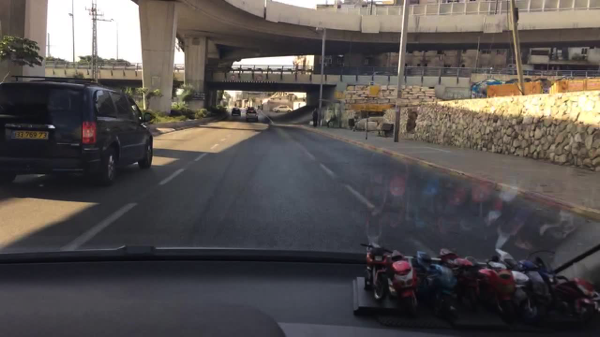car: (1, 75, 156, 186), (245, 110, 258, 123), (272, 105, 293, 113), (230, 107, 241, 116)
person: (326, 112, 336, 129), (312, 108, 318, 127)
